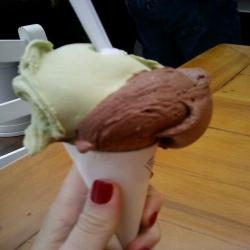icecream: (21, 38, 208, 156)
